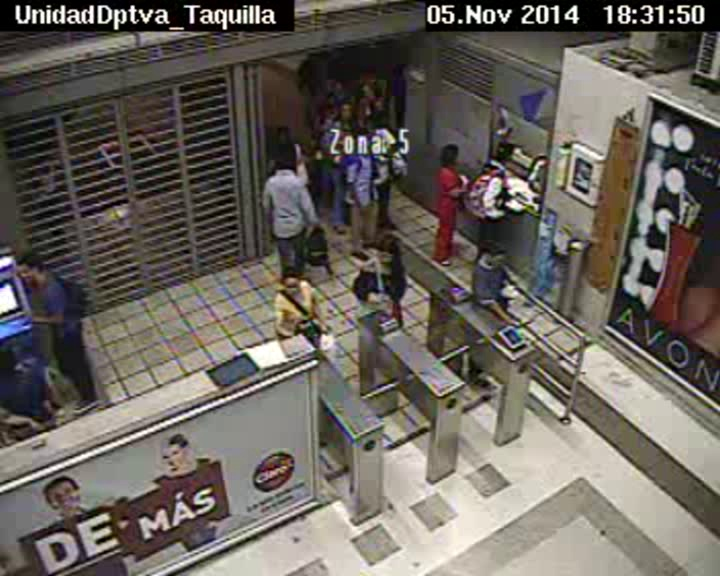person: (15, 253, 49, 287), (370, 231, 402, 264), (476, 240, 507, 271), (276, 268, 304, 297), (437, 141, 465, 170), (492, 141, 516, 165), (272, 147, 293, 168), (353, 134, 373, 155), (337, 100, 356, 121), (367, 110, 386, 131), (274, 125, 291, 145), (1, 342, 15, 366), (359, 83, 377, 100), (325, 96, 336, 108), (333, 82, 343, 94), (317, 84, 327, 95)
